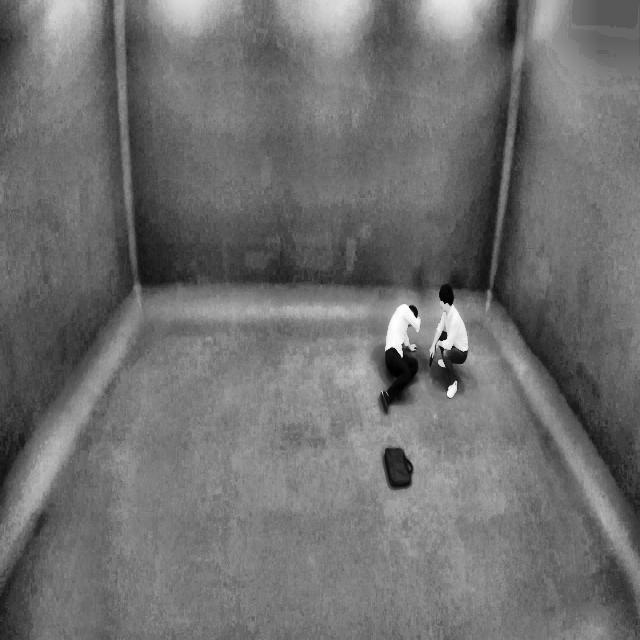assult: (382, 282, 472, 416), (384, 294, 426, 416)
